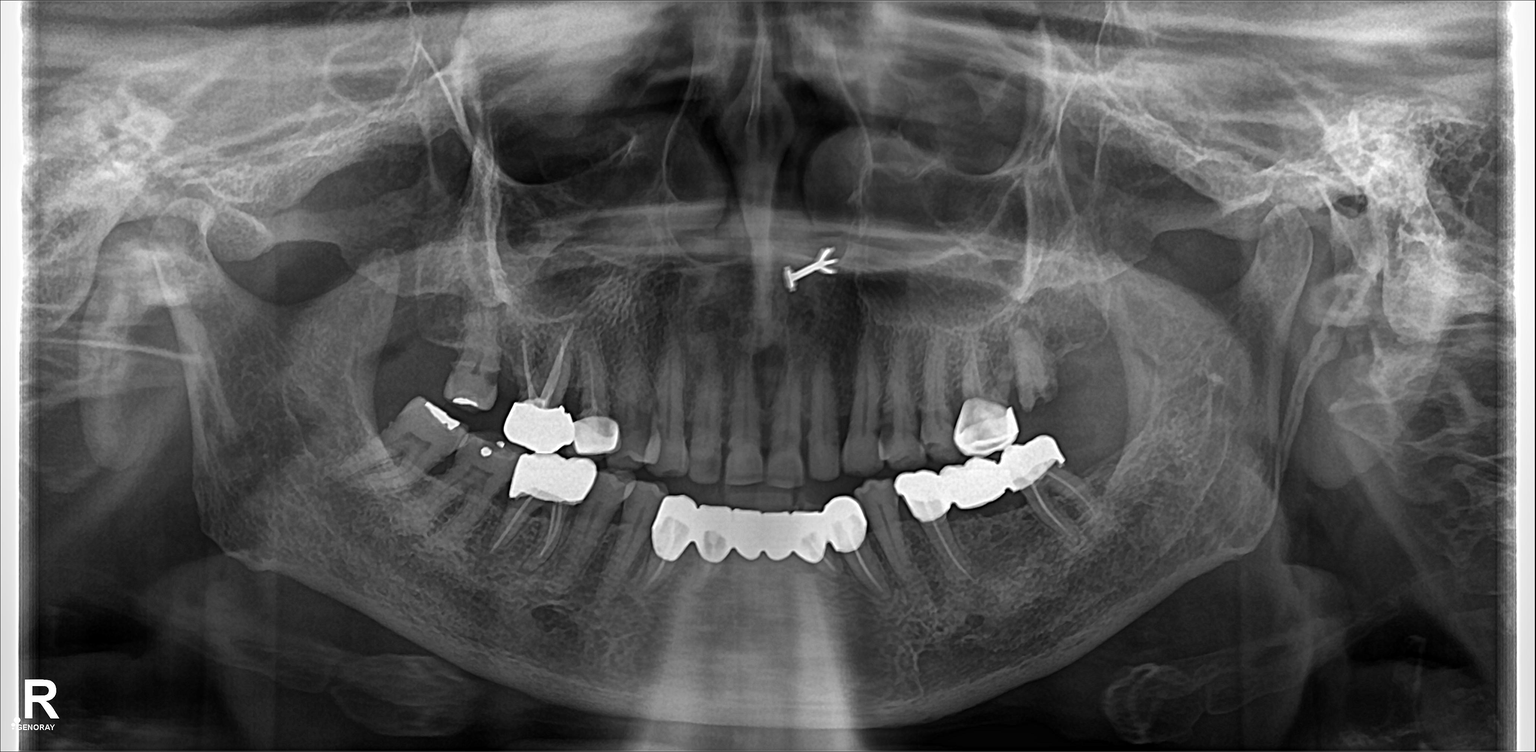Endodontically Treated Tooth: (956, 329, 1013, 453), (1015, 439, 1076, 550), (907, 480, 967, 590), (516, 458, 574, 567), (566, 337, 620, 448), (514, 335, 562, 444), (831, 508, 875, 603), (648, 495, 687, 596), (797, 512, 831, 605)
Impacted Third Molar: (378, 413, 462, 487)
Missing Tooth: (1065, 315, 1108, 407), (1076, 426, 1125, 498), (387, 302, 422, 387), (426, 307, 459, 392)
Retained Root: (1007, 335, 1064, 425)
